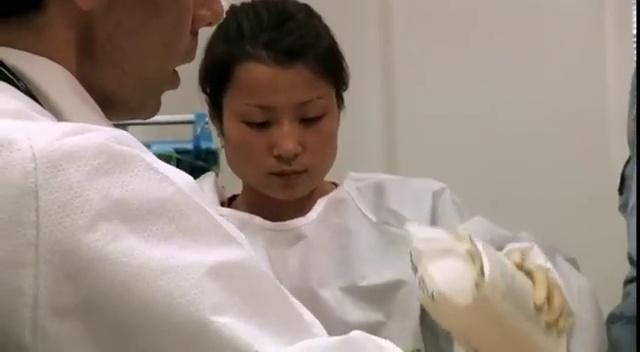doctor: (1, 0, 239, 351)
nurse: (190, 0, 605, 352)
